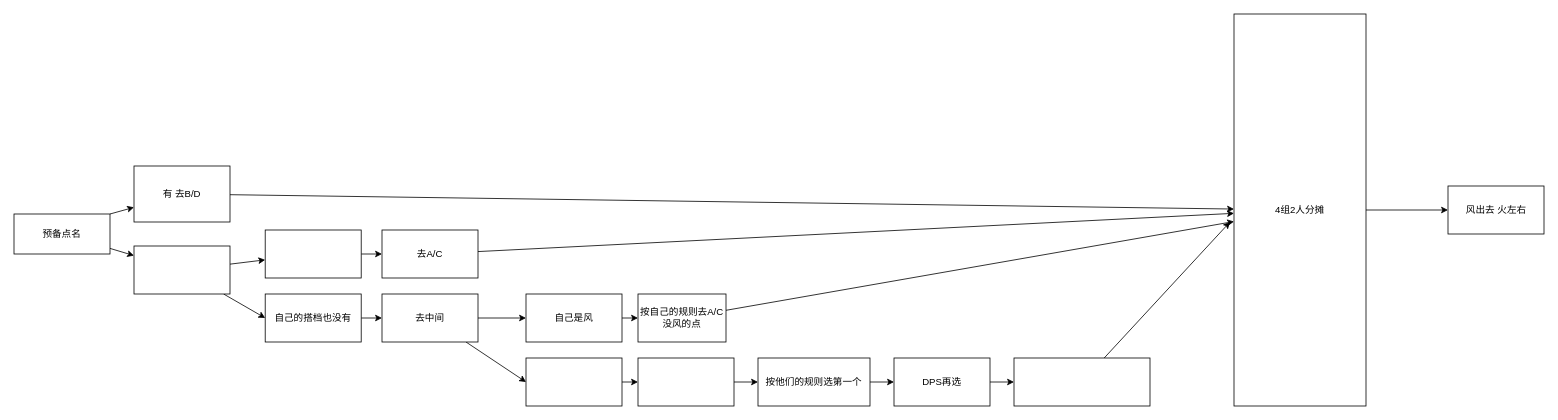
The diagram is 1558 pixels wide and 420 high, and some of its shapes have lost their labels. The box of each missing label's shape, as (x1, y1, x2, y2) in pixels:
TN先选: (637, 357, 734, 406)
按自己规则第一个没TN去的: (1013, 357, 1150, 406)
没有: (133, 245, 230, 294)
自己是火: (525, 357, 622, 406)
自己的搭档有: (264, 229, 361, 278)
